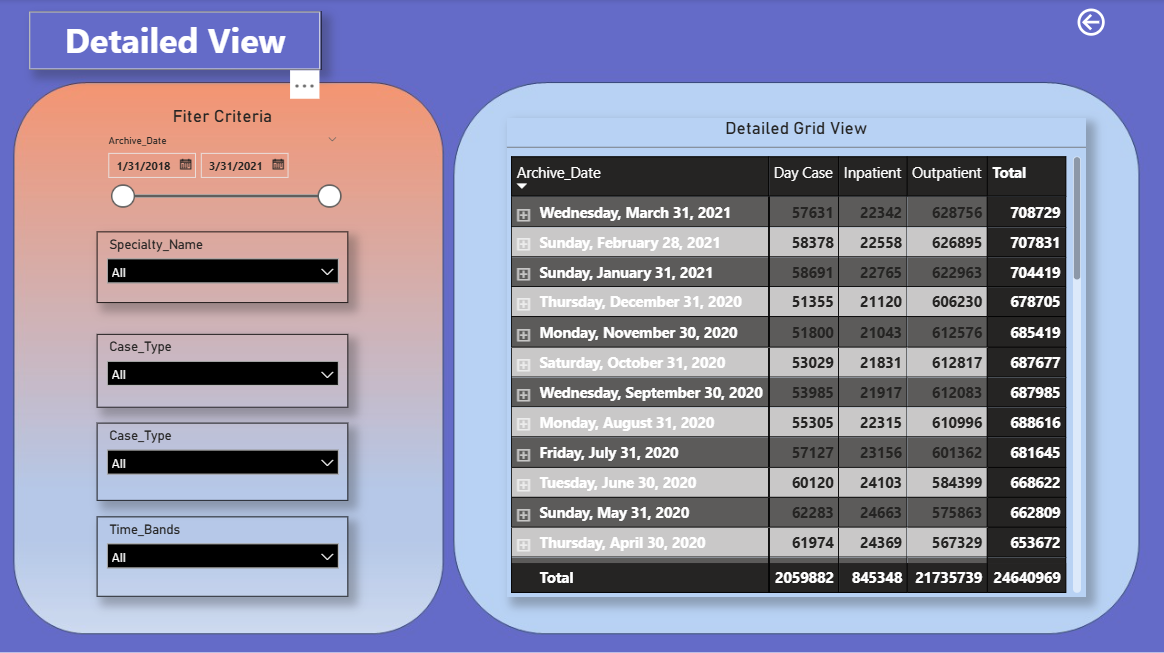

Layout of this report page (visuals, bound fields, positions):
{"tool":"powerbi","page":{"name":"Detail","canvas":[1280,720],"ordinal":1},"visuals":[{"type":"slicer","title":"Fiter Criteria                  ","fields":{"Values":["All data.Archive_Date"]},"box":[108.6,105,276.3,130.3],"z":0},{"type":"slicer","fields":{"Values":["All data.Case_Type"]},"box":[108.6,368,276.3,80.8],"z":1000},{"type":"slicer","fields":{"Values":["All data.Specialty_Name"]},"box":[108.6,254.6,276.3,78.4],"z":2000},{"type":"textbox","box":[33.8,13.3,320.9,63.9],"z":3000},{"type":"slicer","fields":{"Values":["All data.Time_Bands"]},"box":[108.6,568.2,276.3,88.1],"z":4000},{"type":"pivotTable","title":"Detailed Grid View","fields":{"Rows":["All data.Archive_Date","All data.Age_Profile","All data.Time_Bands","All data.Specialty_Name"],"Columns":["All data.Case_Type"],"Values":["Sum(All data.Total)"]},"box":[558.6,130.3,635.8,526],"z":5000},{"type":"slicer","fields":{"Values":["All data.Case_Type"]},"box":[108.6,465.7,276.3,85.7],"z":6000},{"type":"actionButton","box":[1179.9,6,49.5,39.8],"z":7000}]}

Visuals, with their boxes in screenshot pixels (x1, y1, x2, y2), scaled from the page's 1280x720 canvas onto the 1164x653 screenshot:
"Fiter Criteria                  " slicer: (left=99, top=95, right=350, bottom=213)
slicer - All data.Case_Type: (left=99, top=334, right=350, bottom=407)
slicer - All data.Specialty_Name: (left=99, top=231, right=350, bottom=302)
textbox: (left=31, top=12, right=323, bottom=70)
slicer - All data.Time_Bands: (left=99, top=515, right=350, bottom=595)
"Detailed Grid View" pivotTable: (left=508, top=118, right=1086, bottom=595)
slicer - All data.Case_Type: (left=99, top=422, right=350, bottom=500)
actionButton: (left=1073, top=5, right=1118, bottom=42)
